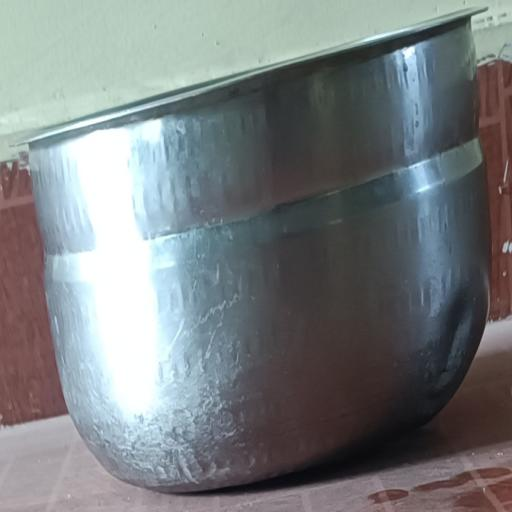vessel: (30, 11, 489, 490)
